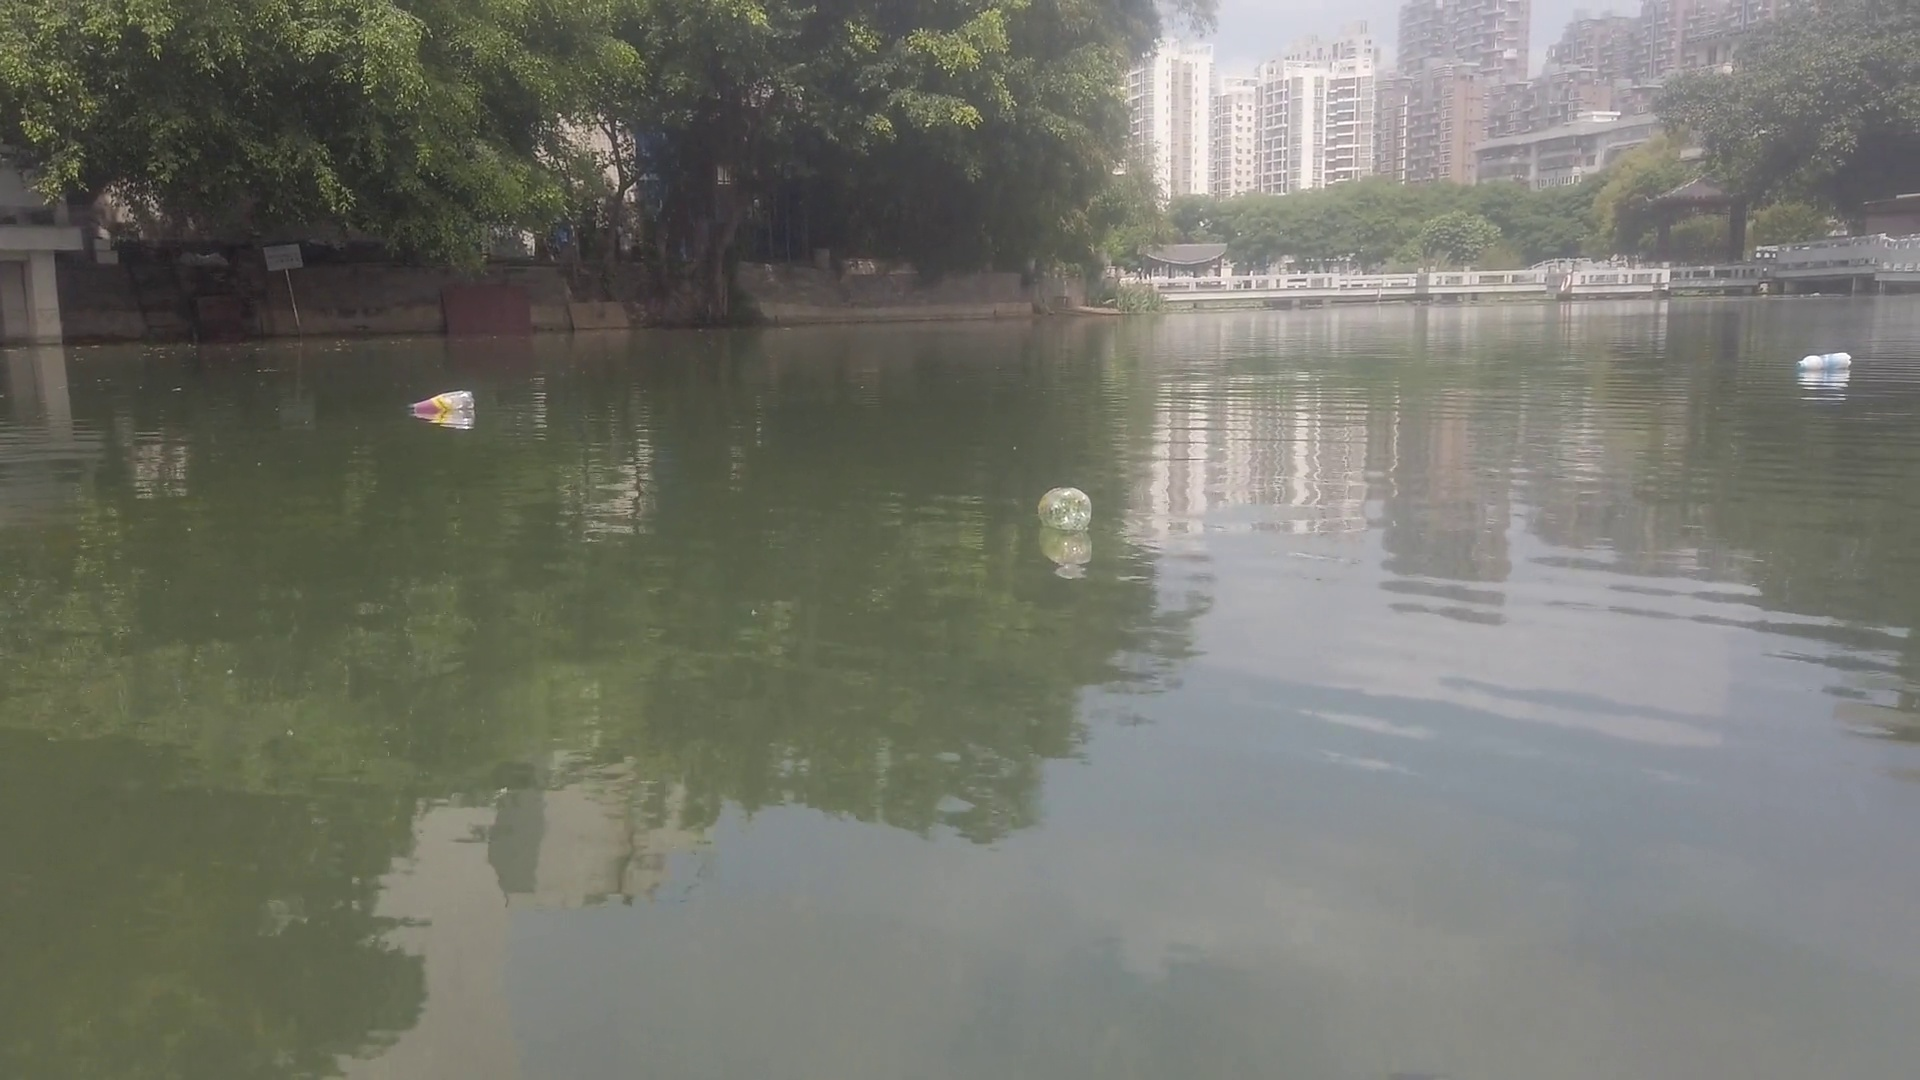bottle: (1033, 484, 1098, 533), (1793, 347, 1854, 375), (404, 390, 479, 411)
